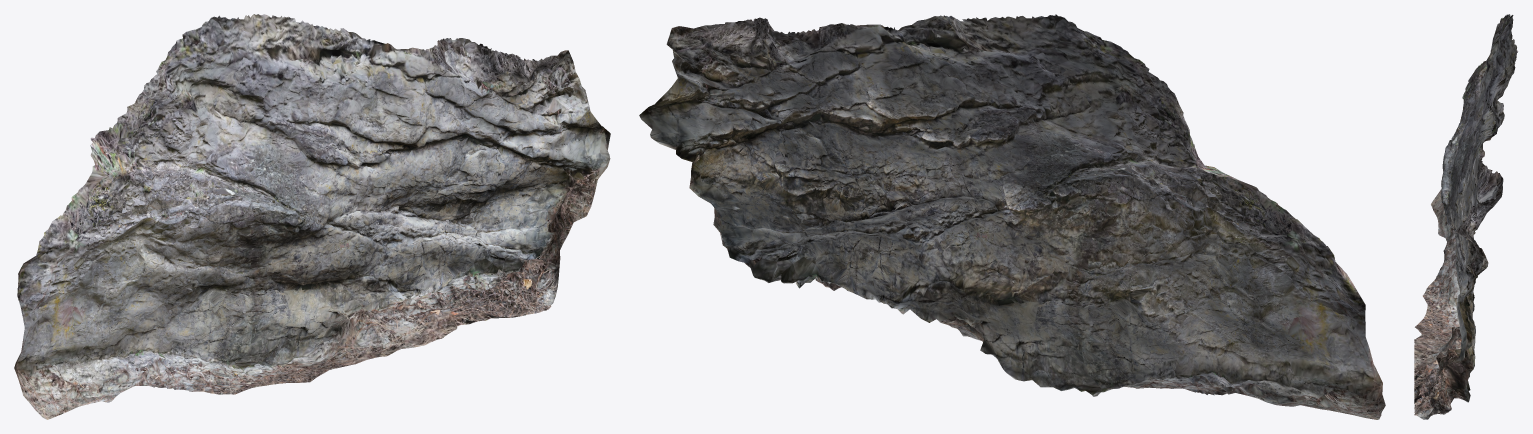
File: rockwall3.glb
3 views of the same model, side by side, from view 1: azimuth 30°, elevation 25°; view 2: azimuth 150°, elevation 25°; view 3: azimuth 270°, elevation 25° (orthographic). The views are drawn at different scales.
Visible parts, largest first — view 1: Rock Wall Face Photoscanned; view 2: Rock Wall Face Photoscanned; view 3: Rock Wall Face Photoscanned.
Part boxes in pixels (bbox=[...]): Rock Wall Face Photoscanned: bbox=[14, 14, 610, 419]; Rock Wall Face Photoscanned: bbox=[639, 14, 1385, 419]; Rock Wall Face Photoscanned: bbox=[1414, 14, 1517, 419].
Size of the model in its own units: 4.9 by 2.62 by 0.8408.
1 material, 1 textured.
